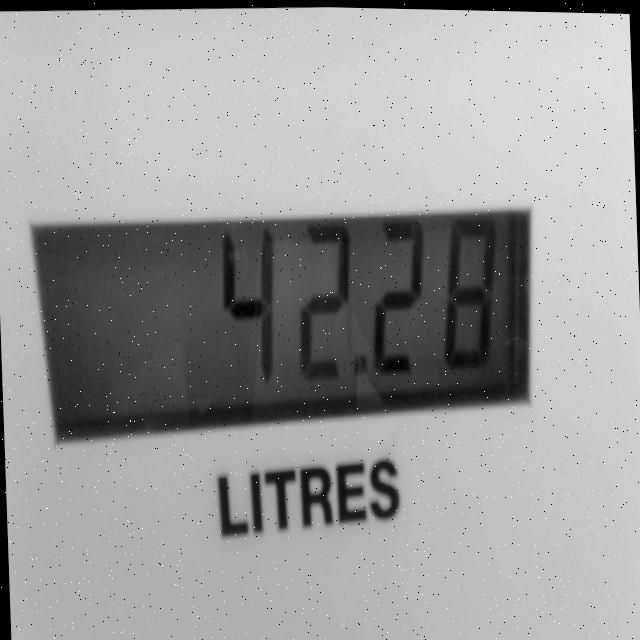.: (346, 345, 374, 386)
2: (365, 204, 438, 406), (288, 214, 362, 398)
4: (210, 221, 288, 406)
8: (440, 202, 504, 380)
